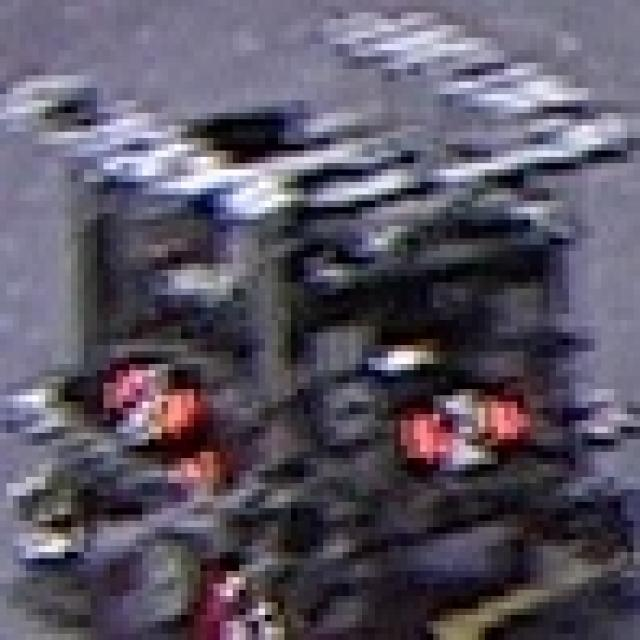R2: (394, 376, 530, 477), (97, 352, 200, 446)
